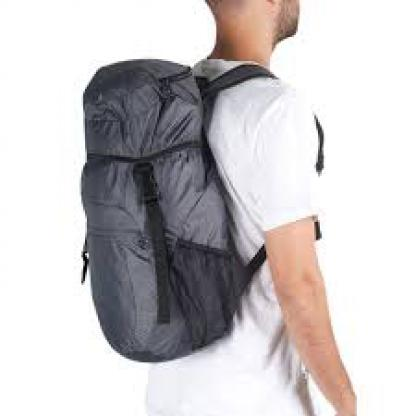morral: (54, 48, 270, 366)
